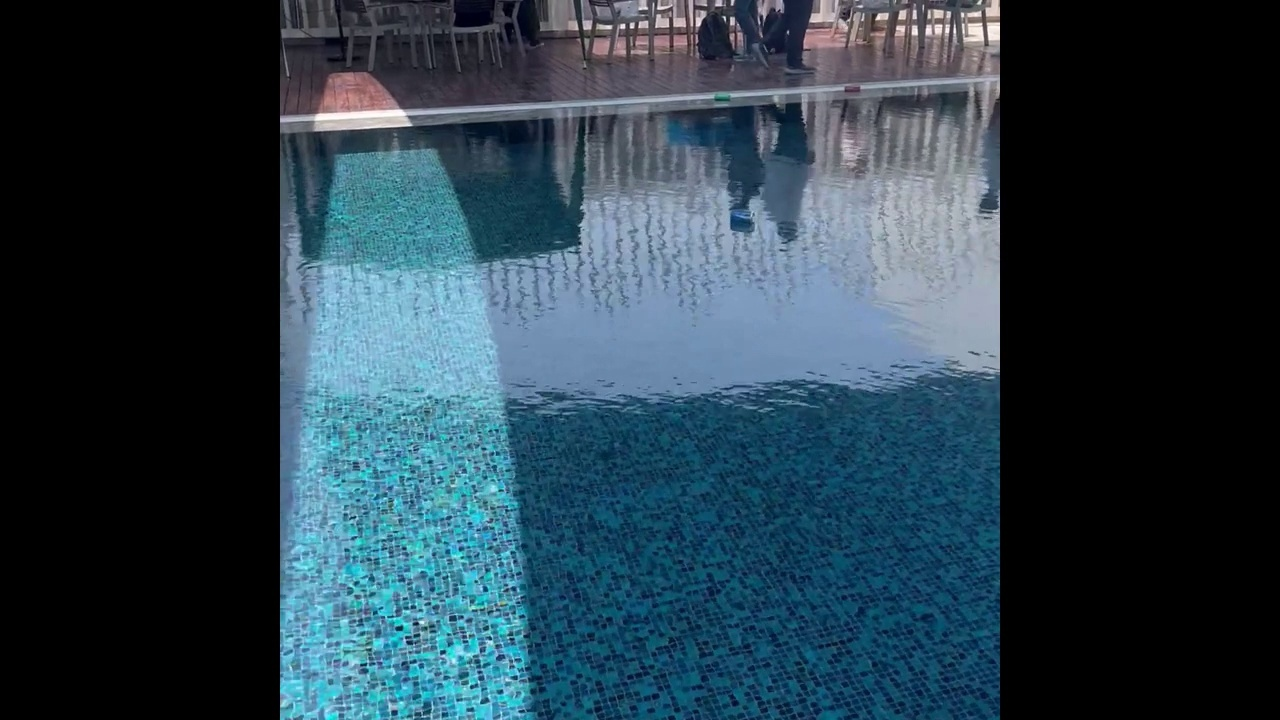debris: (728, 204, 755, 228), (711, 91, 734, 105), (842, 82, 862, 96)
